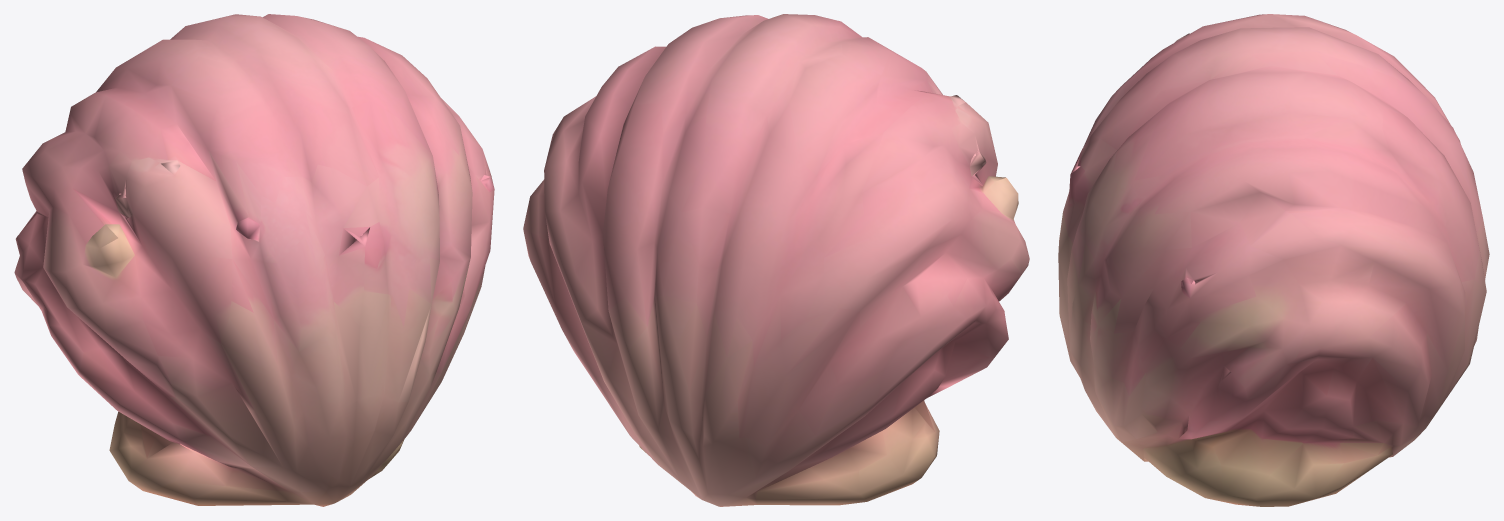
File: shell.fbx
The picture shows the model from 3 angles, left to right: view 1: azimuth 30°, elevation 25°; view 2: azimuth 150°, elevation 25°; view 3: azimuth 270°, elevation 25°; orthographic projection. The views are drawn at different scales.
Parts seen in each view (by area): view 1: tripo_node_79d08d12; view 2: tripo_node_79d08d12; view 3: tripo_node_79d08d12.
Part boxes in pixels (x1,y1,x2,y2): tripo_node_79d08d12: (14,14,494,506); tripo_node_79d08d12: (523,14,1029,506); tripo_node_79d08d12: (1058,14,1489,506).
Bounding box in the file's own units: 0.075 × 0.0698 × 0.0649.
Materials: 1 (1 with a texture image).
